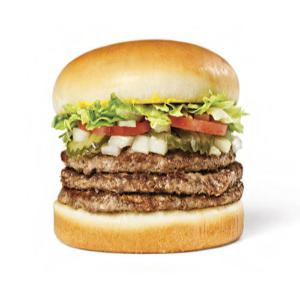cheeseburger_475cal: (47, 35, 253, 263)
